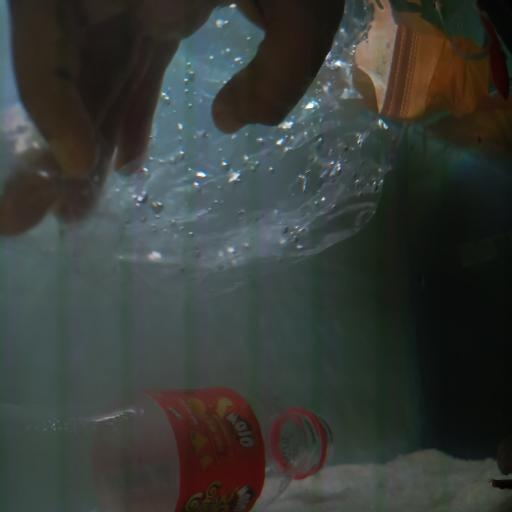mask: (363, 0, 512, 156), (416, 0, 511, 56)
plastic_bag: (12, 2, 397, 288)
plastic_bottle: (7, 386, 339, 512)
